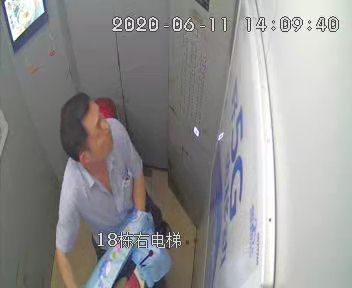Electric-bicycle: (93, 93, 169, 287)
